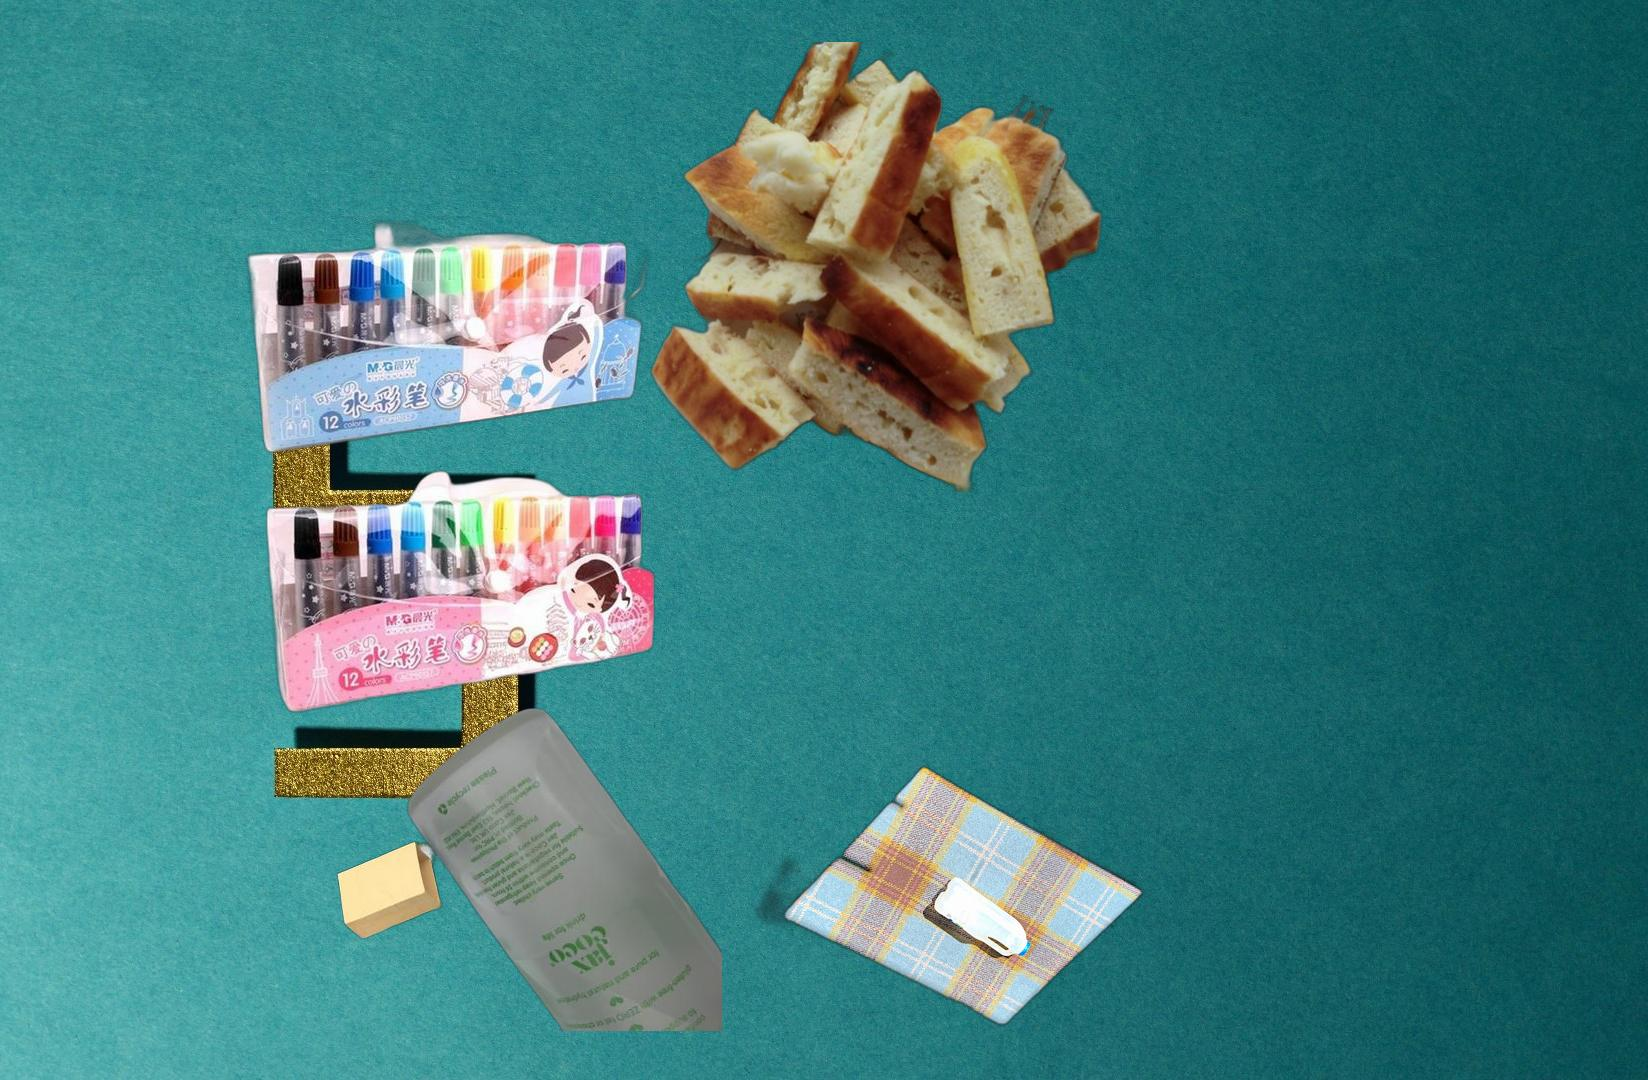biological: (646, 42, 1107, 492)
glass: (403, 708, 722, 1031)
paper-bag: (336, 839, 448, 943)
penholder: (242, 216, 659, 716)
plastic-bottles: (747, 761, 1195, 1031)
